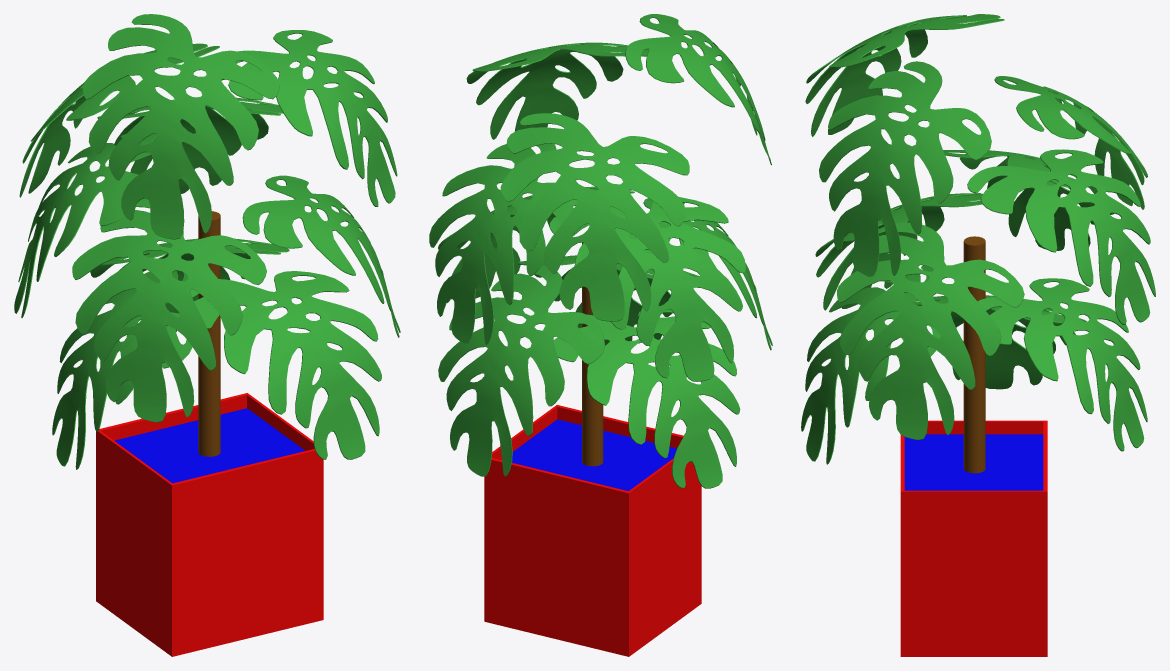
File: Plantbox2small.fbx
3 views of the same model, side by side, from view 1: azimuth 30°, elevation 25°; view 2: azimuth 150°, elevation 25°; view 3: azimuth 270°, elevation 25° (orthographic). The views are drawn at different scales.
Parts seen in each view (by area): view 1: Cube, Plane.001, Plane.006, Plane.009, Plane.005, Plane.004, Plane.007, Plane.010, Plane.002, Cylinder, Plane.003, Plane.008; view 2: Cube, Plane.002, Plane.008, Plane.007, Plane.010, Plane.003, Plane.005, Plane.001, Cylinder, Plane.006, Plane.009, Plane.004; view 3: Cube, Plane.004, Plane.005, Plane.003, Plane.008, Plane.009, Plane.001, Plane.002, Cylinder, Plane.006, Plane.007, Plane.010.
Boxes of the visible parts, bbox=[...] form: Cube: bbox=[96, 393, 323, 656]; Plane.001: bbox=[82, 14, 279, 239]; Plane.006: bbox=[72, 198, 266, 422]; Plane.009: bbox=[190, 271, 381, 459]; Plane.005: bbox=[221, 30, 397, 206]; Plane.004: bbox=[242, 175, 400, 337]; Plane.007: bbox=[14, 133, 157, 317]; Plane.010: bbox=[52, 270, 192, 469]; Plane.002: bbox=[19, 43, 219, 197]; Cylinder: bbox=[198, 211, 220, 456]; Plane.003: bbox=[97, 97, 283, 193]; Plane.008: bbox=[90, 238, 289, 331]; Cube: bbox=[484, 405, 701, 656]; Plane.002: bbox=[500, 113, 689, 321]; Plane.008: bbox=[438, 265, 605, 476]; Plane.007: bbox=[549, 197, 745, 381]; Plane.010: bbox=[543, 309, 740, 488]; Plane.003: bbox=[429, 143, 586, 344]; Plane.005: bbox=[466, 42, 648, 139]; Plane.001: bbox=[625, 14, 771, 165]; Cylinder: bbox=[582, 242, 603, 466]; Plane.006: bbox=[628, 198, 772, 350]; Plane.009: bbox=[517, 255, 699, 345]; Plane.004: bbox=[438, 186, 634, 302]; Cube: bbox=[900, 420, 1047, 656]; Plane.004: bbox=[837, 222, 1024, 440]; Plane.005: bbox=[819, 61, 991, 276]; Plane.003: bbox=[967, 149, 1155, 324]; Plane.008: bbox=[965, 278, 1147, 451]; Plane.009: bbox=[801, 265, 940, 464]; Plane.001: bbox=[805, 14, 1004, 136]; Plane.002: bbox=[994, 76, 1147, 209]; Cylinder: bbox=[963, 236, 985, 473]; Plane.006: bbox=[815, 193, 982, 310]; Plane.007: bbox=[943, 150, 1115, 250]; Plane.010: bbox=[913, 295, 1086, 389].
Bounding box in the file's own units: 236 × 247 × 425.
